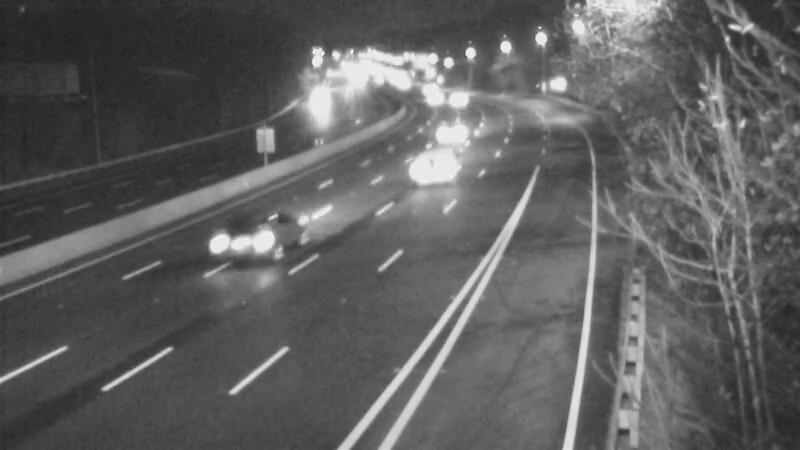vehicle: (405, 124, 485, 204), (182, 205, 262, 285), (404, 73, 454, 123), (430, 76, 480, 126), (414, 103, 464, 153), (292, 77, 342, 127)
